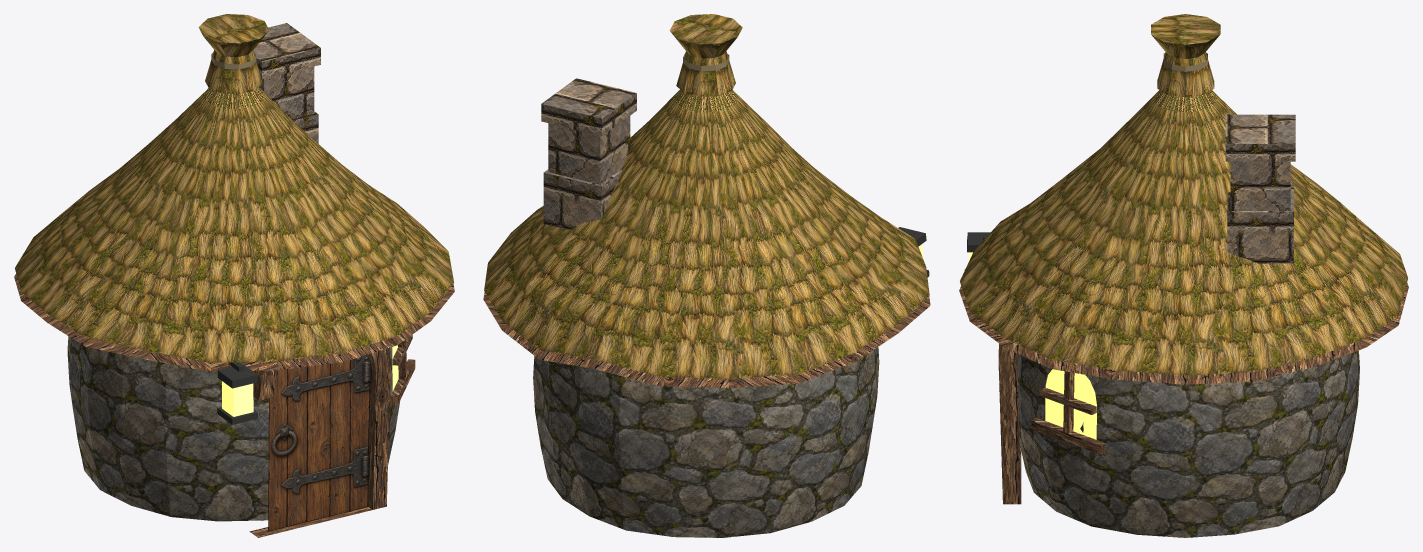
File: house-mixed-01.glb
3 views of the same model, side by side, from view 1: azimuth 30°, elevation 25°; view 2: azimuth 150°, elevation 25°; view 3: azimuth 270°, elevation 25° (orthographic). The views are drawn at different scales.
Parts seen in each view (by area): view 1: roof, walls, door, chimney, door_frame, roof_under, top_tuft, lantern_cage, lantern_glass, window_frame; view 2: roof, walls, chimney, roof_under, top_tuft; view 3: roof, walls, chimney, roof_under, top_tuft, door_frame, window_frame, window.
Part boxes in pixels (x1,y1,x2,y2): roof: (15,87,454,362); walls: (67,336,399,521); door: (268,354,371,531); chimney: (253,23,320,143); door_frame: (249,349,390,537); roof_under: (14,273,454,371); top_tuft: (198,14,268,94); lantern_cage: (217,365,257,424); lantern_glass: (222,381,253,416); window_frame: (390,334,415,405); roof: (484,89,929,378); walls: (533,347,879,537); chimney: (541,78,636,229); roof_under: (483,292,930,387); top_tuft: (669,14,742,96); roof: (960,90,1407,375); walls: (1017,350,1359,537); chimney: (1225,114,1295,263); roof_under: (959,282,1408,384); top_tuft: (1151,14,1220,97); door_frame: (998,343,1021,504); window_frame: (1031,371,1105,454); window: (1045,369,1096,439).
Size of the model in its own units: 2.69 by 2.93 by 2.7.
8 materials, 5 textured.
